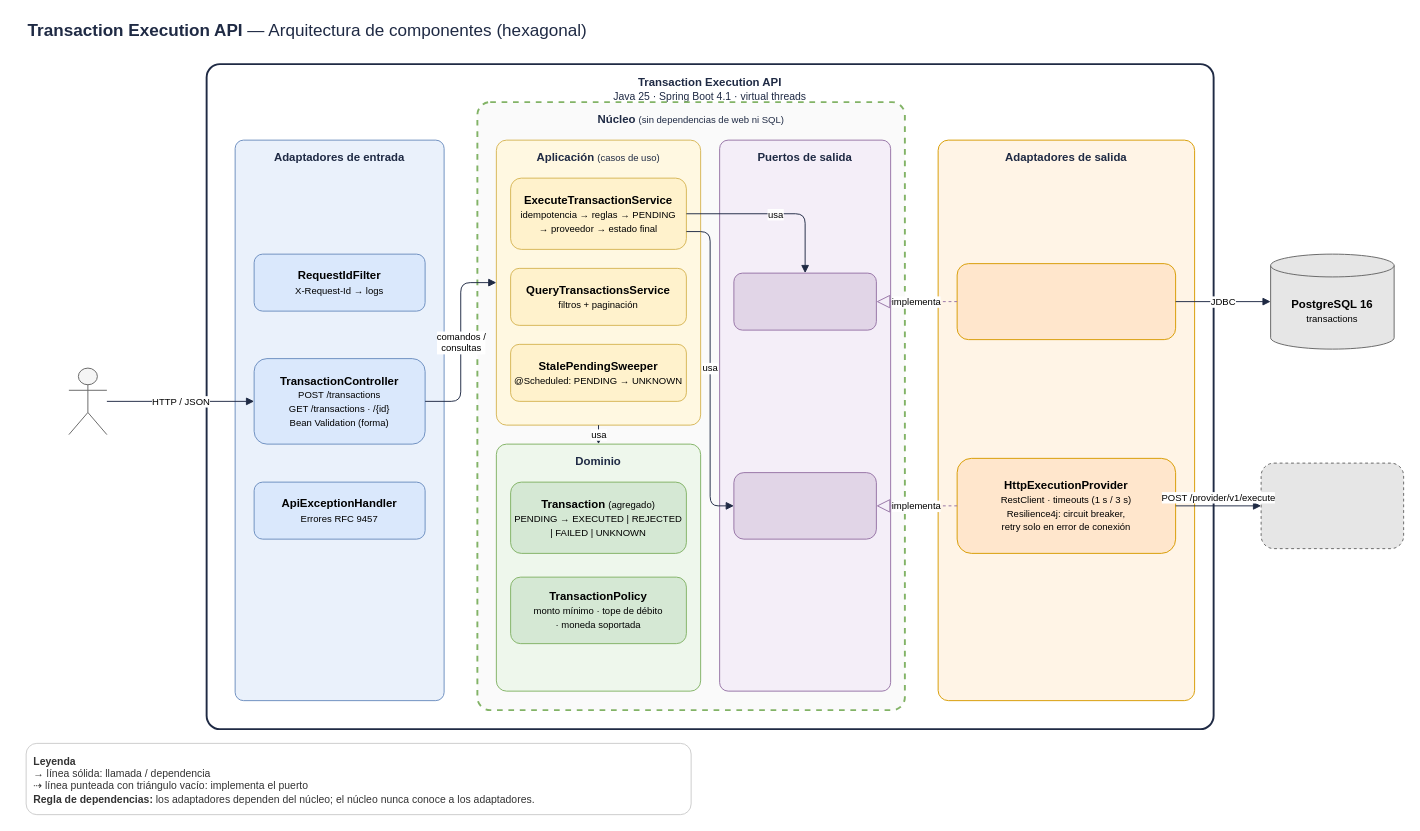
This 1420x831 diagram has some shape labels left out. The centre of each missing label's shape, as x and y in pixels:
"Cliente Postman / servicio consumidor" goes at pixel 87 401.
"JdbcTransactionRepository JdbcClient · SQL explícito Liquibase · HikariCP" goes at pixel 1066 301.
"Proveedor externo saldos y bloqueos (simulado con WireMock)" goes at pixel 1332 505.
"«interface» ExecutionProvider → ProviderOutcome (sealed)" goes at pixel 804 505.
"«interface» TransactionRepository" goes at pixel 804 301.
